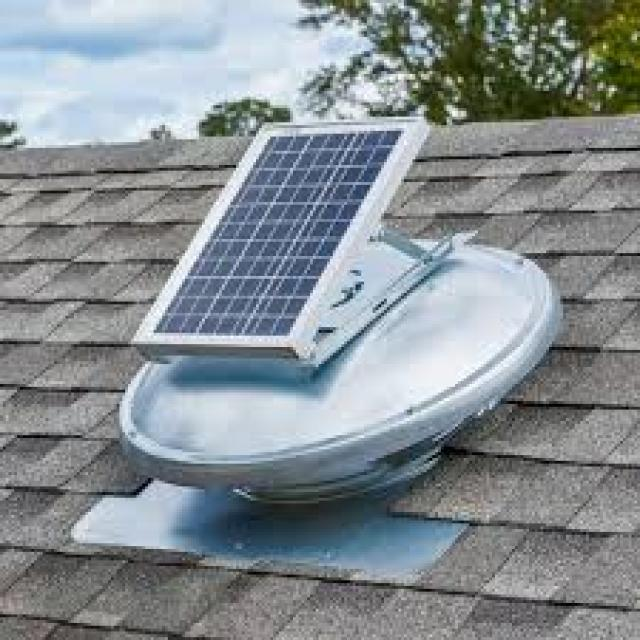no faulty: (158, 128, 400, 338)
